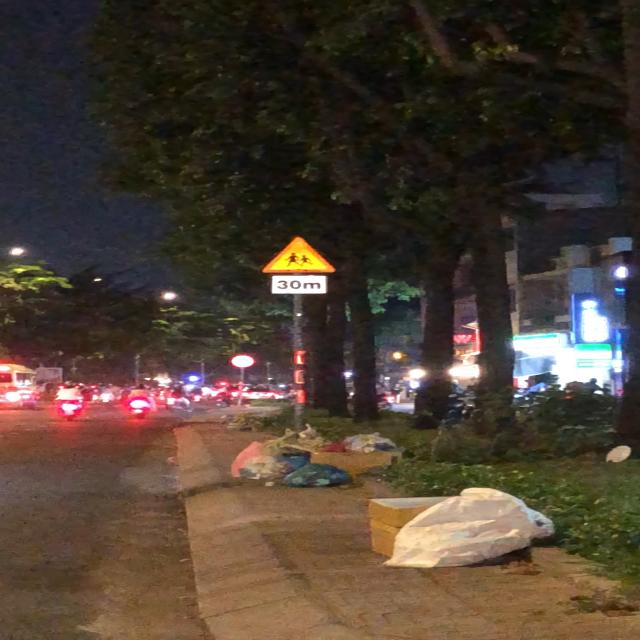Bien bao tre em: (258, 236, 336, 274)
